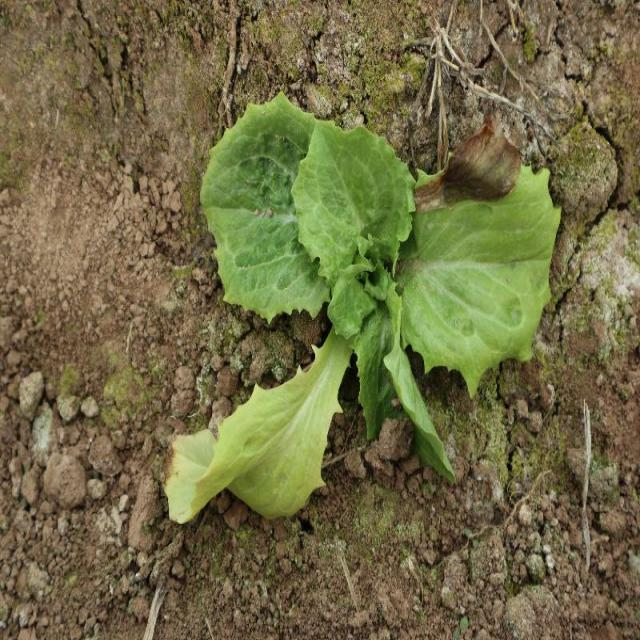crop: (161, 95, 563, 523)
